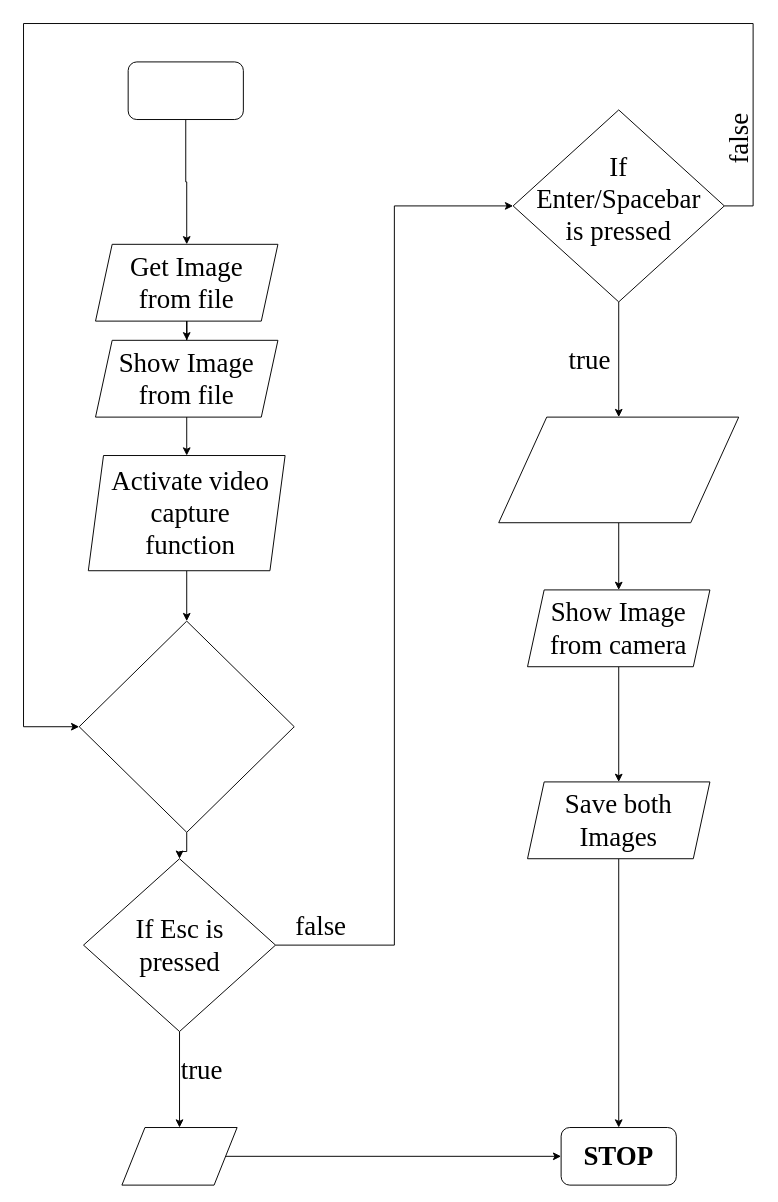
The diagram is 778 pixels wide and 1202 high, and some of its shapes have lost their labels. Here are the shapes that lost their labels. From the top down, the centre of each, then its label:
the point at 185,90: START
the point at 618,469: Store current frame in a variable
the point at 186,726: While cam is available
the point at 179,1156: Break
